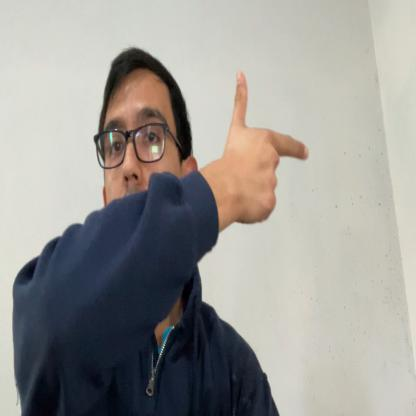G: (227, 68, 308, 225)
